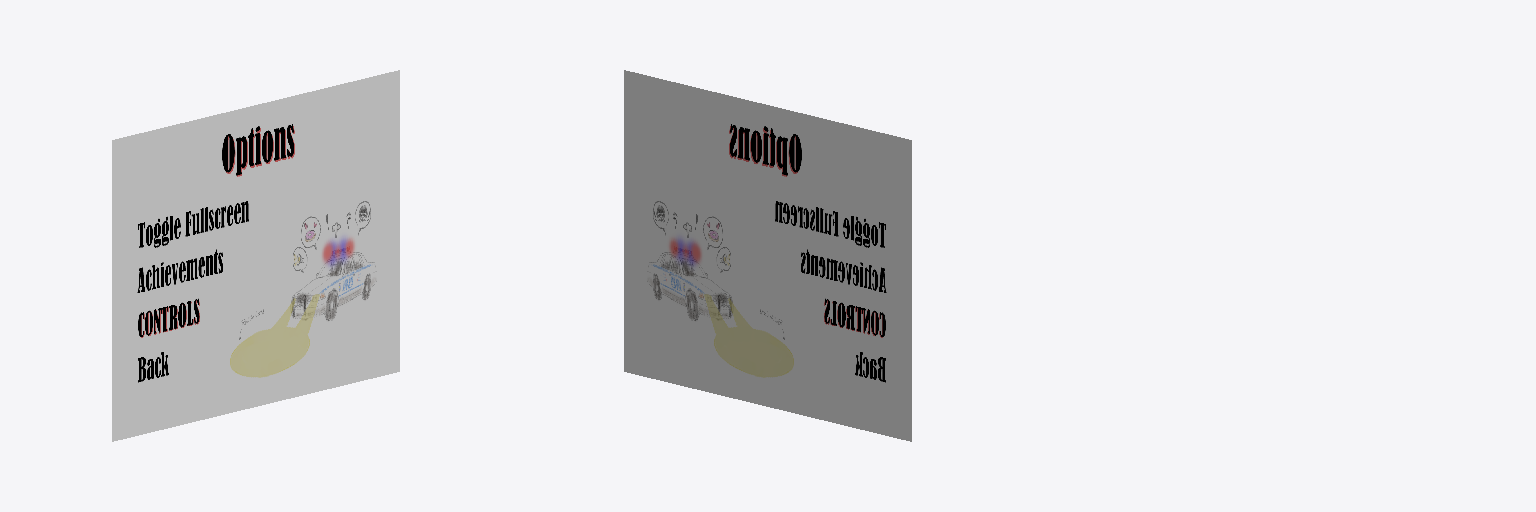
The picture shows the model from 3 angles: view 1: azimuth 30°, elevation 25°; view 2: azimuth 150°, elevation 25°; view 3: azimuth 270°, elevation 25°; orthographic projection.
Parts seen in each view (by area): view 1: Plane; view 2: Plane; view 3: none.
Part boxes in pixels (left/top/right/bottom): Plane: left=112, top=70, right=399, bottom=441; Plane: left=624, top=70, right=911, bottom=441.
Size of the model in its own units: 2 by 2 by 0.
1 materials, 1 textured.